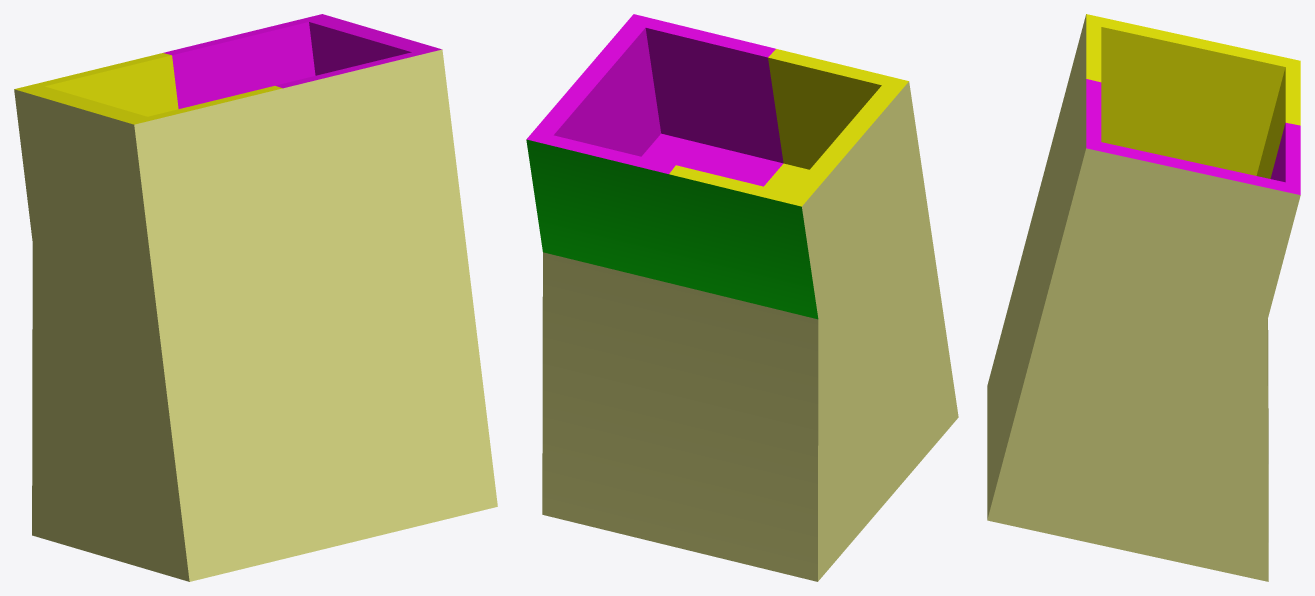
Rendered from sari_pembe_kutu.fbx.
3 renders of one model, left to right at view 1: azimuth 30°, elevation 25°; view 2: azimuth 150°, elevation 25°; view 3: azimuth 270°, elevation 25°, orthographic. The views are drawn at different scales.
Visible parts, largest first — view 1: pCube10; view 2: pCube10; view 3: pCube10.
Boxes of the visible parts, <box> form: pCube10: <box>14,14,497,581</box>; pCube10: <box>526,14,958,581</box>; pCube10: <box>987,14,1300,581</box>.
Size of the model in its own units: 4.33 by 6.51 by 4.27.
